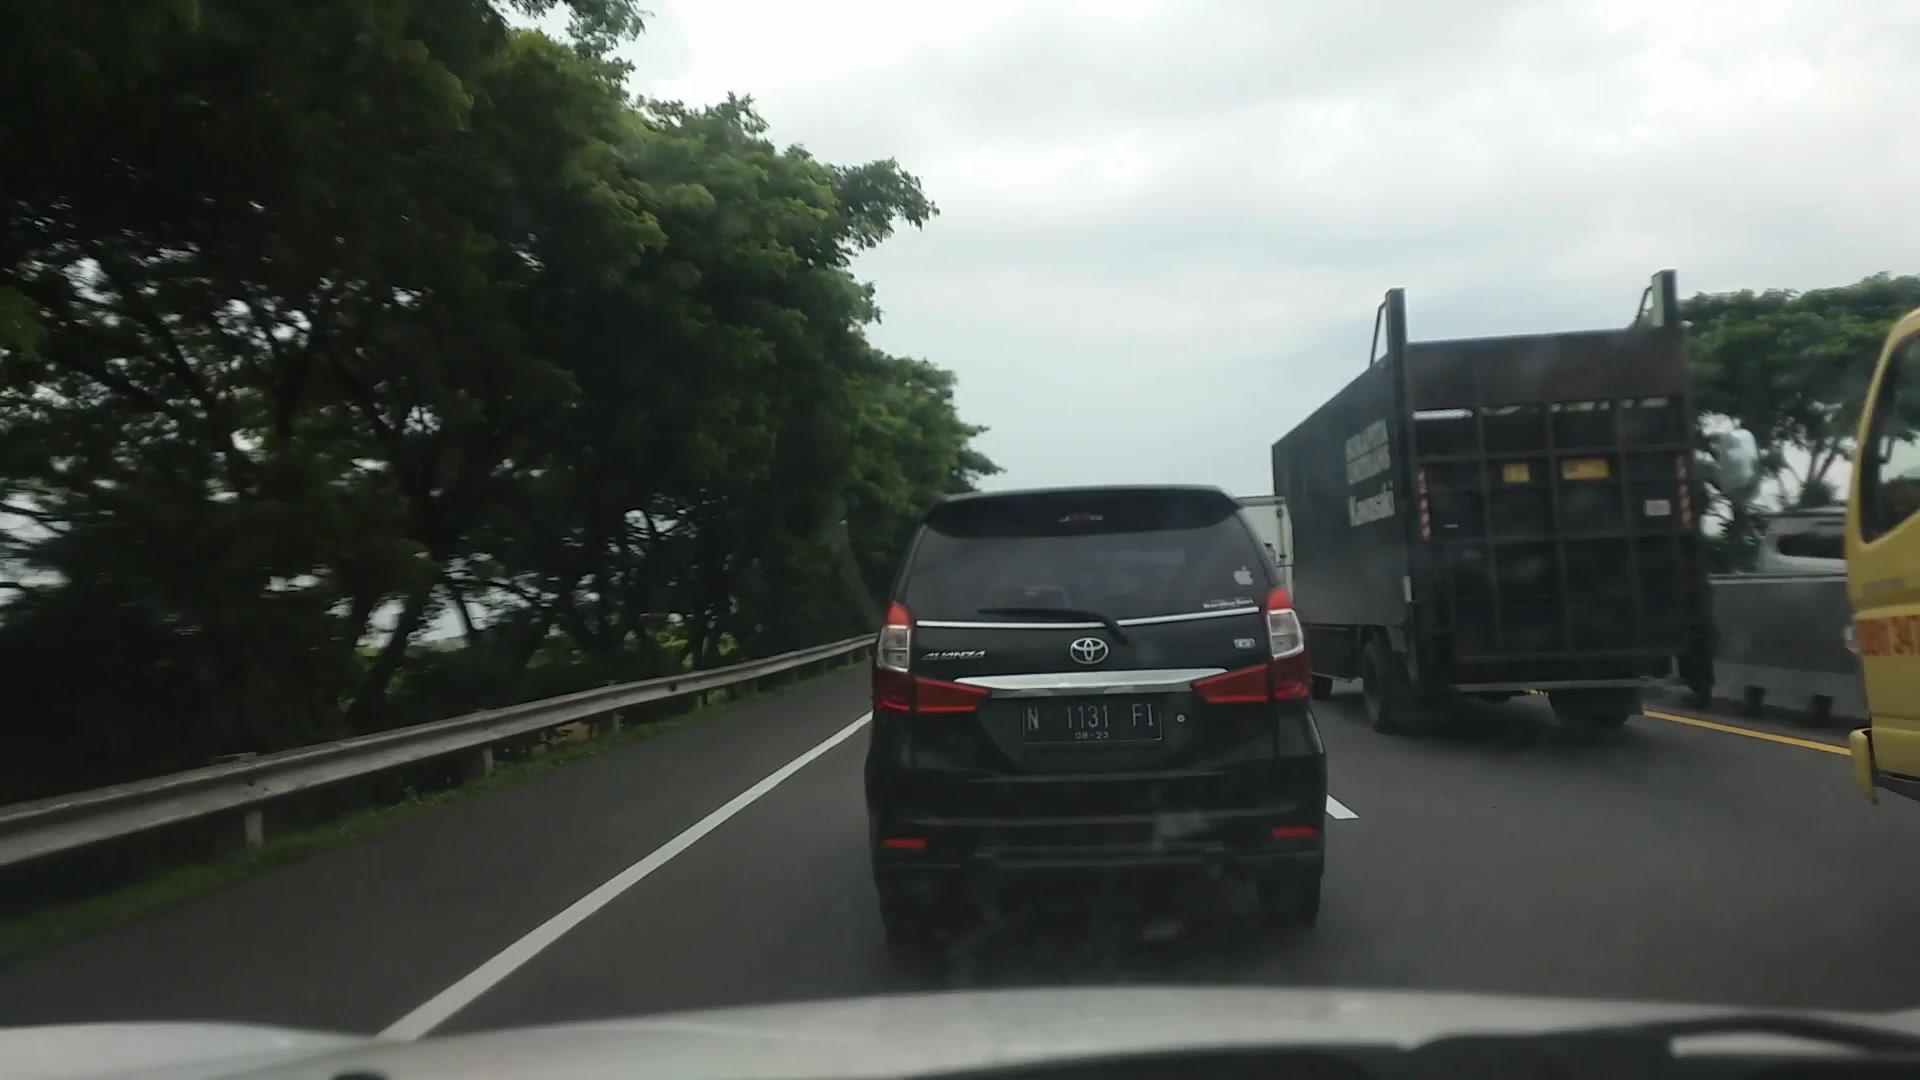plate_positive: (1023, 698, 1160, 742)
